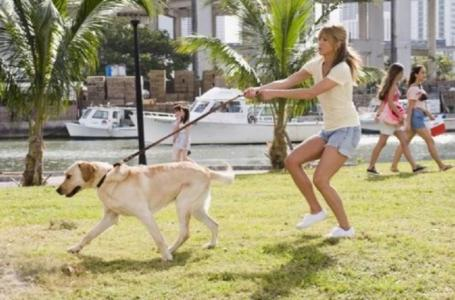person: (243, 26, 365, 238)
